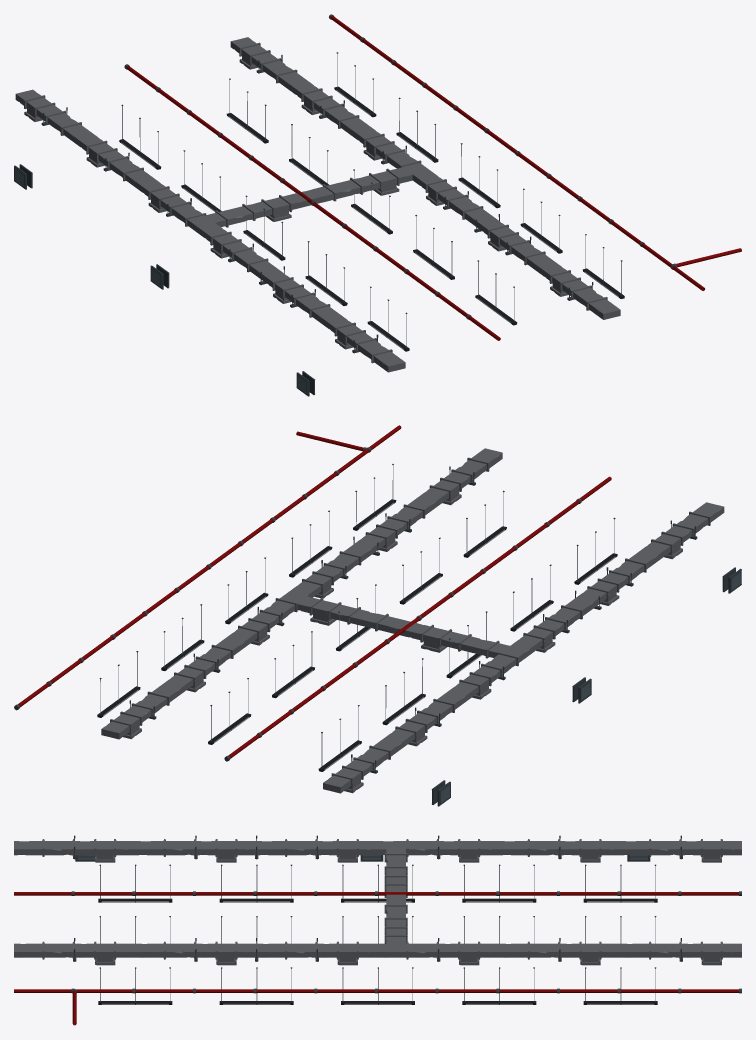
The model's file is Tubes.fbx.
3 renders of one model, top to bottom at view 1: azimuth 30°, elevation 25°; view 2: azimuth 150°, elevation 25°; view 3: azimuth 270°, elevation 25°, orthographic. The views are drawn at different scales.
Parts seen in each view (by area): view 1: SM_Prop_SmallPipe_01 (38).001; view 2: SM_Prop_SmallPipe_01 (38).001; view 3: SM_Prop_SmallPipe_01 (38).001.
Boxes of the visible parts, left/top/right/bottom form: SM_Prop_SmallPipe_01 (38).001: left=14, top=14, right=741, bottom=396; SM_Prop_SmallPipe_01 (38).001: left=14, top=425, right=741, bottom=806; SM_Prop_SmallPipe_01 (38).001: left=14, top=835, right=741, bottom=1025.
Size of the model in its own units: 2012 by 209 by 3000.
